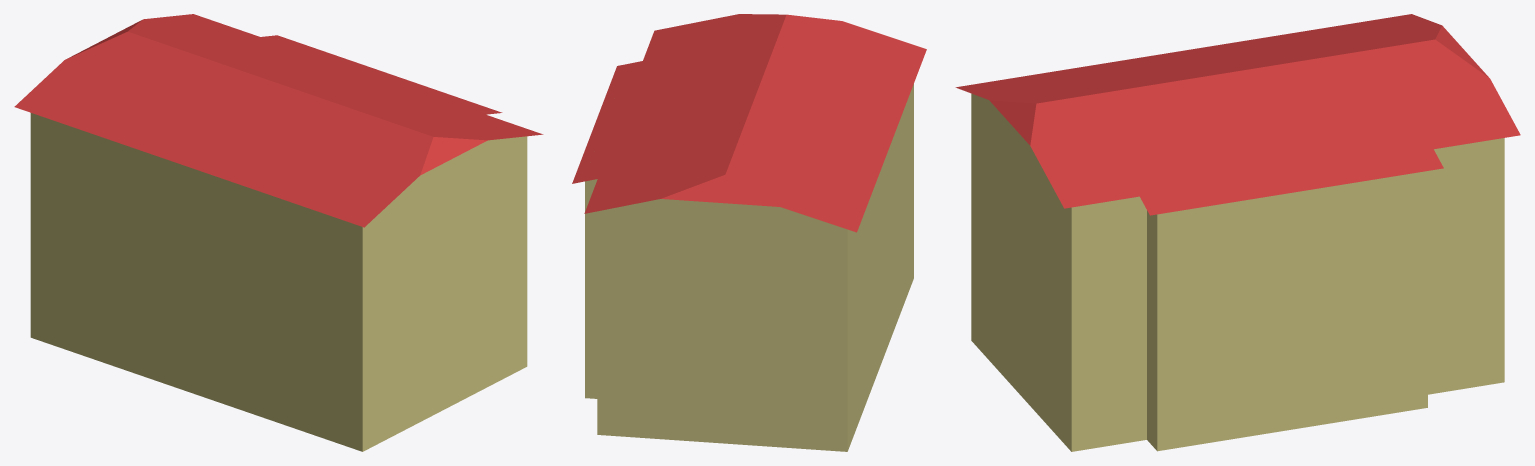
The picture shows the model from 3 angles, left to right: view 1: azimuth 30°, elevation 25°; view 2: azimuth 150°, elevation 25°; view 3: azimuth 270°, elevation 25°; orthographic projection. The views are drawn at different scales.
Bounding box in the file's own units: 18.4 × 22.6 × 12.79.
